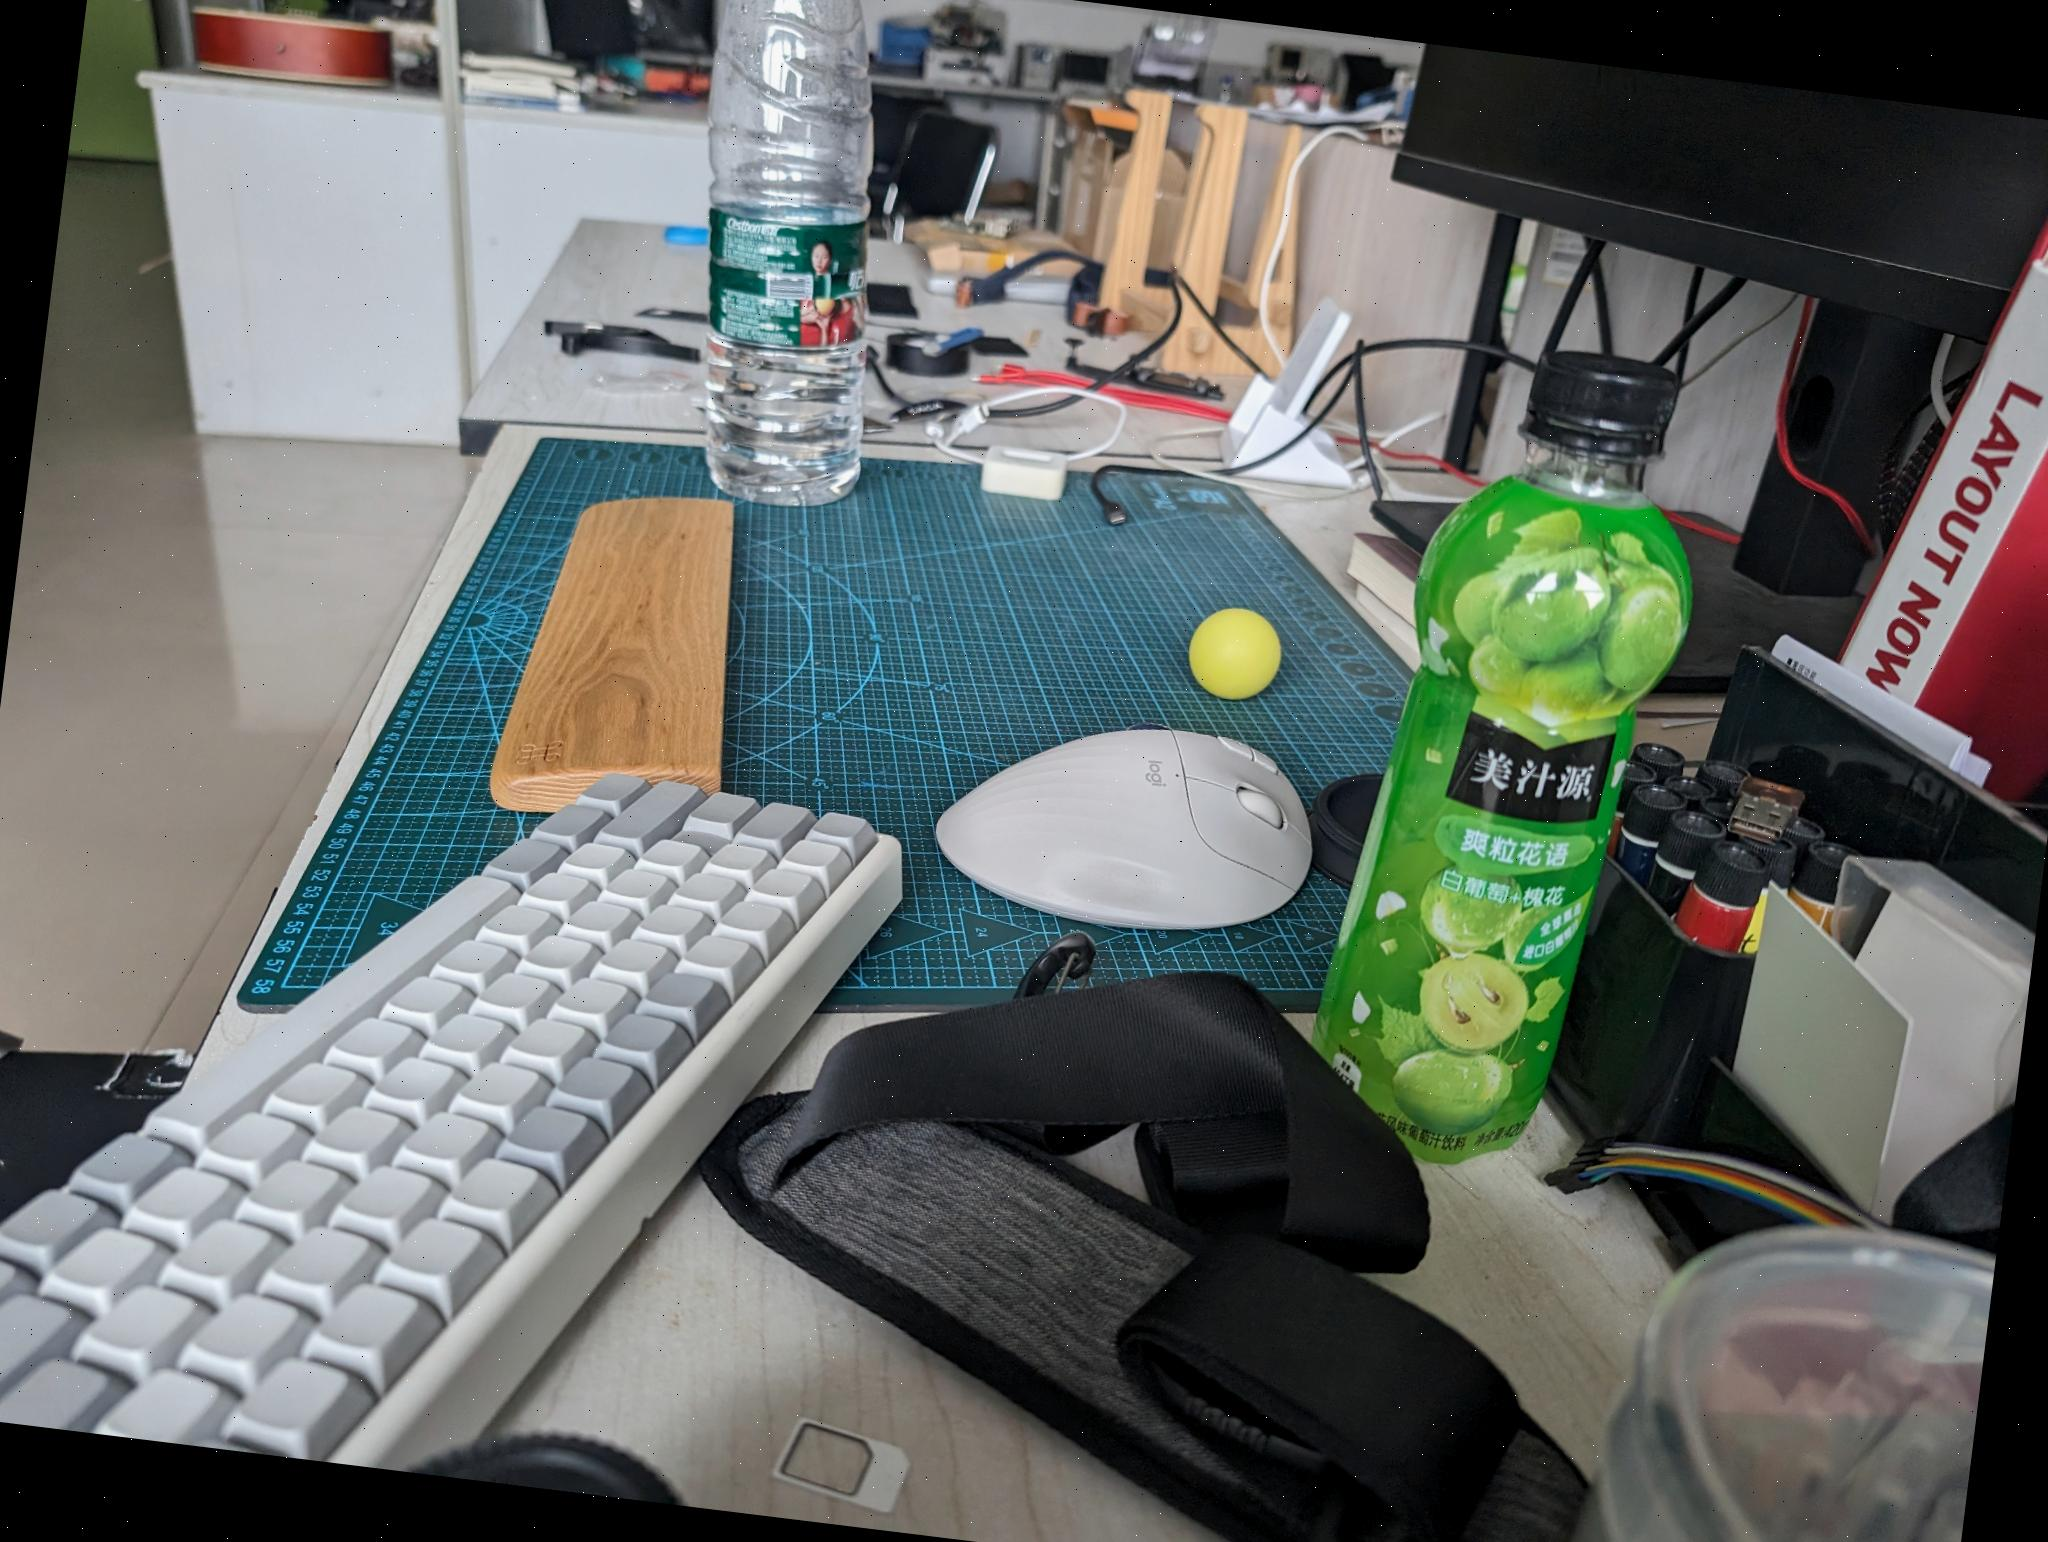ball: (1182, 603, 1284, 705)
